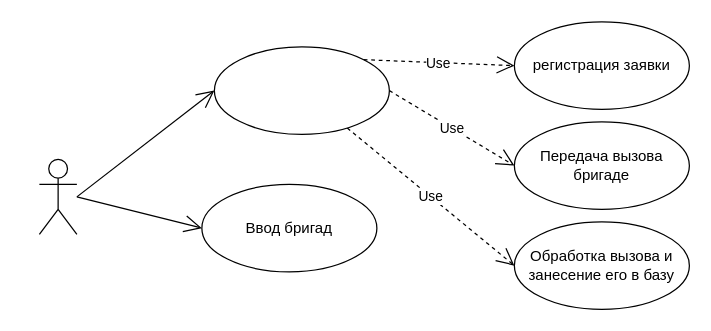
Image size: 711x331. Some labels were removed from this diagram. Here are the shapes that lost their labels. From the top down, the centre of each, then its label:
point 301,90: Операции с вызовами
point 57,196: Диспетчер
